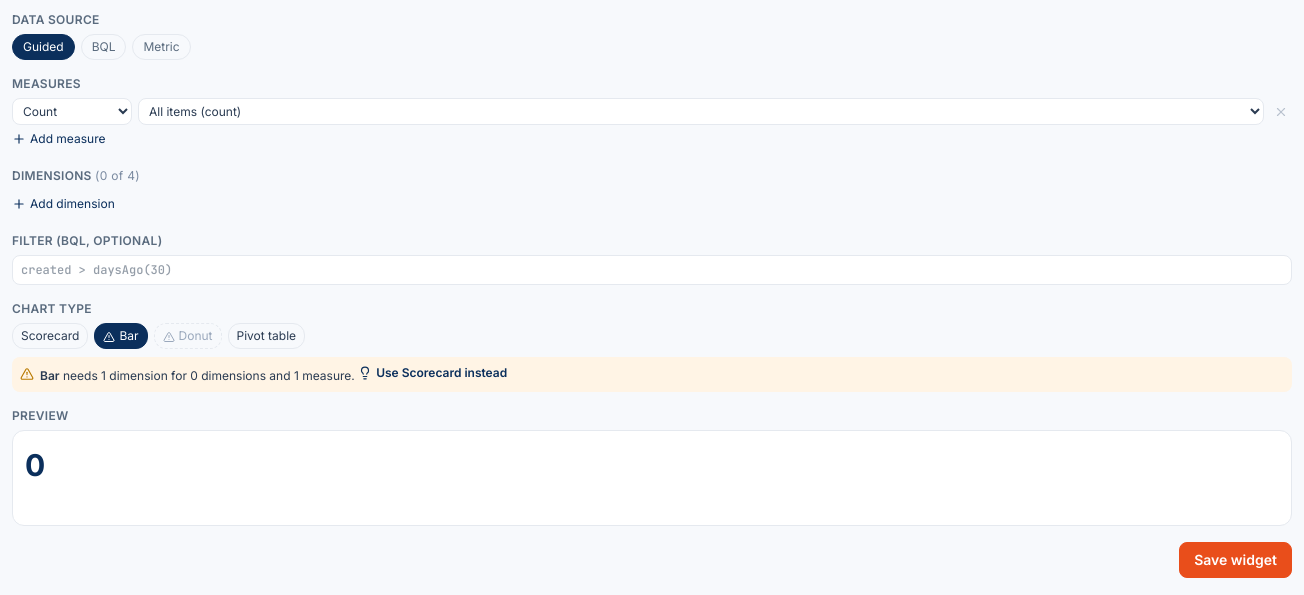
WidgetBuilder › suggests a compatible alternative when the chosen chart does not fit, and applies it
Expected: the button "Bar" is shown, [94,323,148,349]
What coordinates should you click on to do the following:
click the button "Use Scorecard instead"
I would click on:
 (433, 373)
Its box is [358,365,507,381].
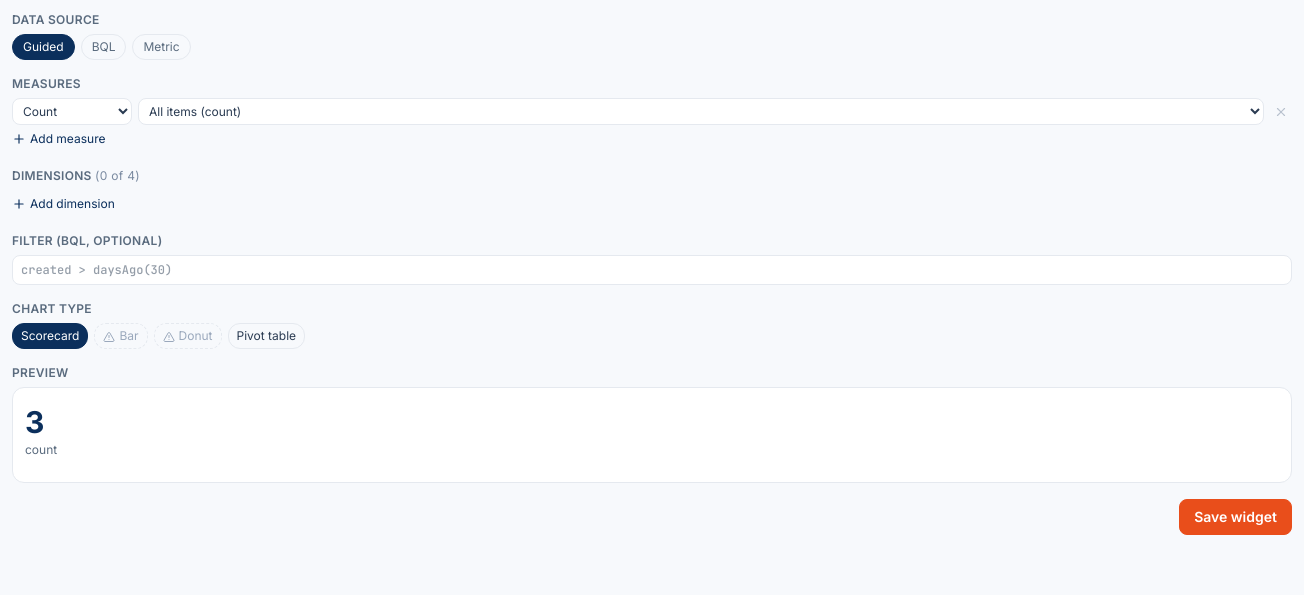
Result: the button "Use Scorecard instead" is gone
